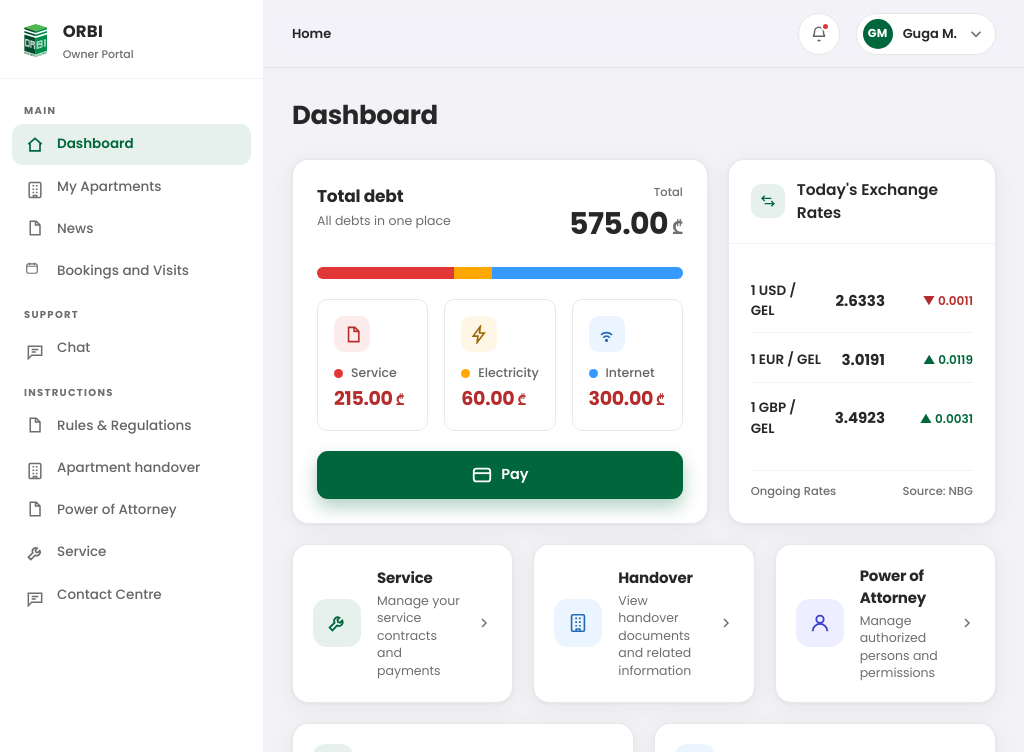
Test case: the header bell › opening the panel marks nothing read
The width and height of the screenshot is (1024, 752).
Click the button named "notification". click: [819, 34]
box: [798, 12, 840, 54]
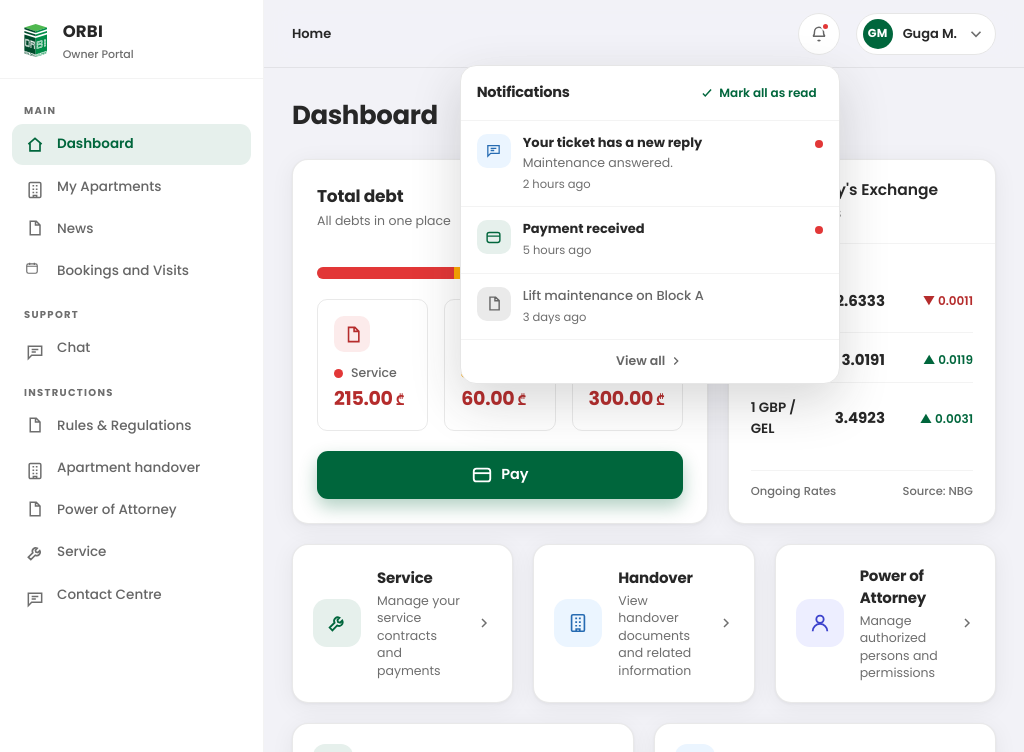
Check: the text "Payment received" is shown, box [523, 219, 645, 238]
